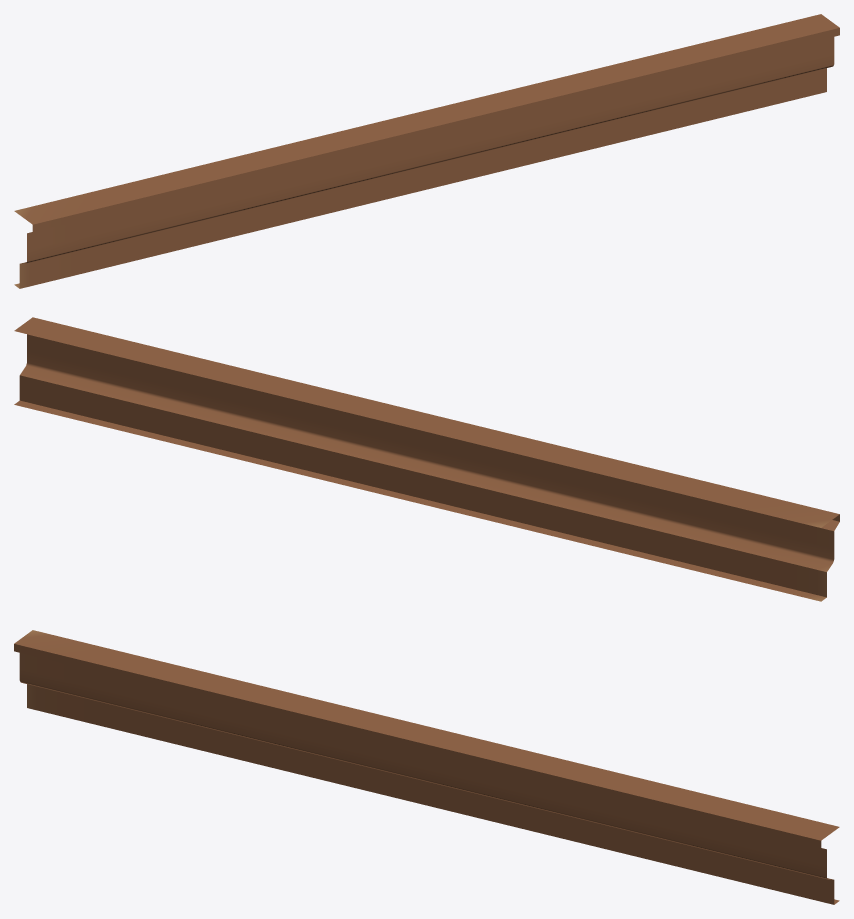
File: DBK_Trim_B_Full.fbx
3 views of the same model, one above another, from view 1: azimuth 30°, elevation 25°; view 2: azimuth 150°, elevation 25°; view 3: azimuth 330°, elevation 25° (orthographic).
Visible parts, largest first — view 1: DBK_Trim_B_Full; view 2: DBK_Trim_B_Full; view 3: DBK_Trim_B_Full.
Part boxes in pixels (x1,y1,x2,y2): DBK_Trim_B_Full: (14,14,839,288); DBK_Trim_B_Full: (14,317,839,601); DBK_Trim_B_Full: (14,630,839,904).
Bounding box in the file's own units: 300 × 26.19 × 12.11.
